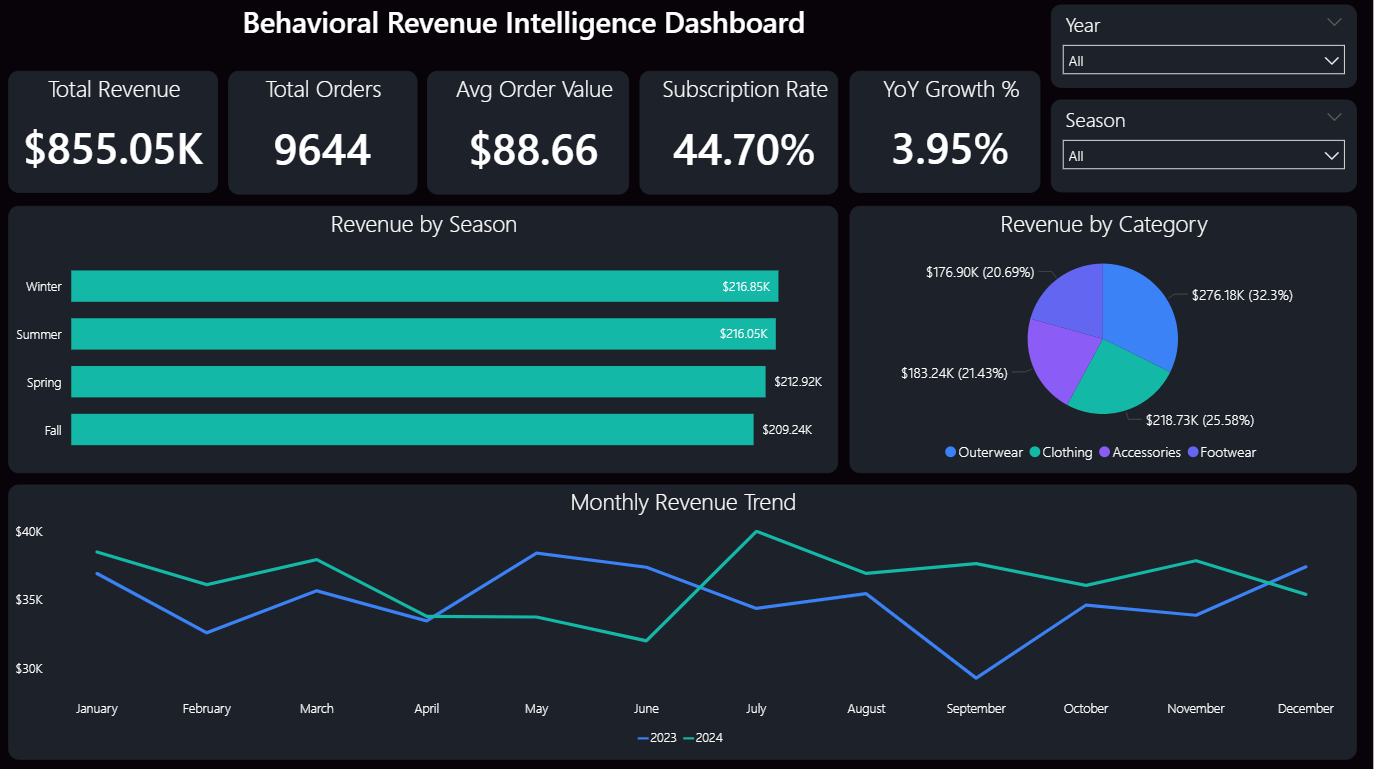

This screenshot's page, from the dashboard's own definition file:
{"tool":"powerbi","page":{"name":"Executive Summary","canvas":[1280,720],"ordinal":0},"visuals":[{"type":"textbox","box":[0,0,980.2,68.6],"z":0},{"type":"card","title":"Total Revenue","fields":{"Values":["Measure Table.Total Revenue"]},"box":[10.4,68.6,195.4,113.3],"z":1000},{"type":"card","title":"Total Orders","fields":{"Values":["Measure Table.Total Orders"]},"box":[214.6,68.6,175.6,115.4],"z":2000},{"type":"card","title":"Avg Order Value","fields":{"Values":["Measure Table.Avg Order Value"]},"box":[400.1,68.6,188.1,115.4],"z":3000},{"type":"card","title":"Subscription Rate","fields":{"Values":["Measure Table.Subscription Rate %"]},"box":[598.1,68.6,185,115.4],"z":4000},{"type":"card","title":"YoY Growth %","fields":{"Values":["Measure Table.YoY Growth %"]},"box":[793,68.6,177.7,113.3],"z":5000},{"type":"lineChart","title":" Monthly Revenue Trend","fields":{"Y":["Measure Table.Total Revenue"],"Series":["Fact_Transactions.Year"],"Category":["Fact_Transactions.purchase_date.Variation.Date Hierarchy.Month"]},"box":[10.4,453.1,1254.4,255.7],"z":6000},{"type":"pieChart","title":"Revenue by Category","fields":{"Y":["Measure Table.Total Revenue"],"Category":["Dim_Product.category"]},"box":[793,194.2,472.1,248.8],"z":7000},{"type":"barChart","title":"Revenue by Season","fields":{"Category":["Fact_Transactions.season"],"Y":["Measure Table.Total Revenue"]},"box":[10.5,194.2,772.1,248.8],"z":8000},{"type":"slicer","fields":{"Values":["Fact_Transactions.Year"]},"box":[980,7.3,284.8,77.9],"z":9000},{"type":"slicer","fields":{"Values":["Fact_Transactions.season"]},"box":[980,95.6,284.8,86.3],"z":10000}]}

Visuals, with their boxes in screenshot pixels (x1, y1, x2, y2), scaled from the page's 1280x720 canvas onto the 1374x769 screenshot:
textbox: <bbox>0, 0, 1052, 73</bbox>
"Total Revenue" card: <bbox>11, 73, 221, 194</bbox>
"Total Orders" card: <bbox>230, 73, 419, 197</bbox>
"Avg Order Value" card: <bbox>429, 73, 631, 197</bbox>
"Subscription Rate" card: <bbox>642, 73, 841, 197</bbox>
"YoY Growth %" card: <bbox>851, 73, 1042, 194</bbox>
" Monthly Revenue Trend" lineChart: <bbox>11, 484, 1358, 757</bbox>
"Revenue by Category" pieChart: <bbox>851, 207, 1358, 473</bbox>
"Revenue by Season" barChart: <bbox>11, 207, 840, 473</bbox>
slicer - Fact_Transactions.Year: <bbox>1052, 8, 1358, 91</bbox>
slicer - Fact_Transactions.season: <bbox>1052, 102, 1358, 194</bbox>
